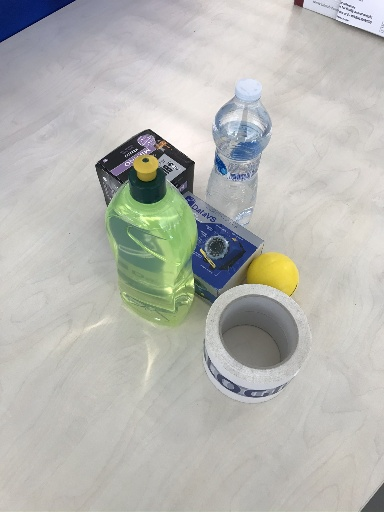Acqua: (211, 80, 274, 228)
Box: (178, 190, 265, 306)
Caffe: (95, 128, 196, 206)
Nastro: (203, 282, 314, 402)
Palla: (247, 250, 300, 297)
Sapone: (103, 158, 198, 327)
